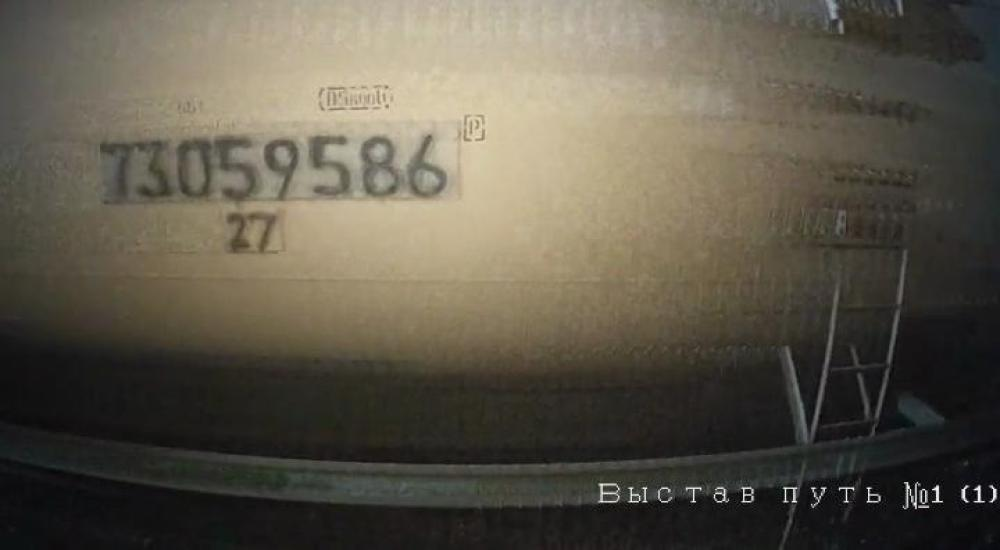Wagon-number: (99, 126, 451, 203)
